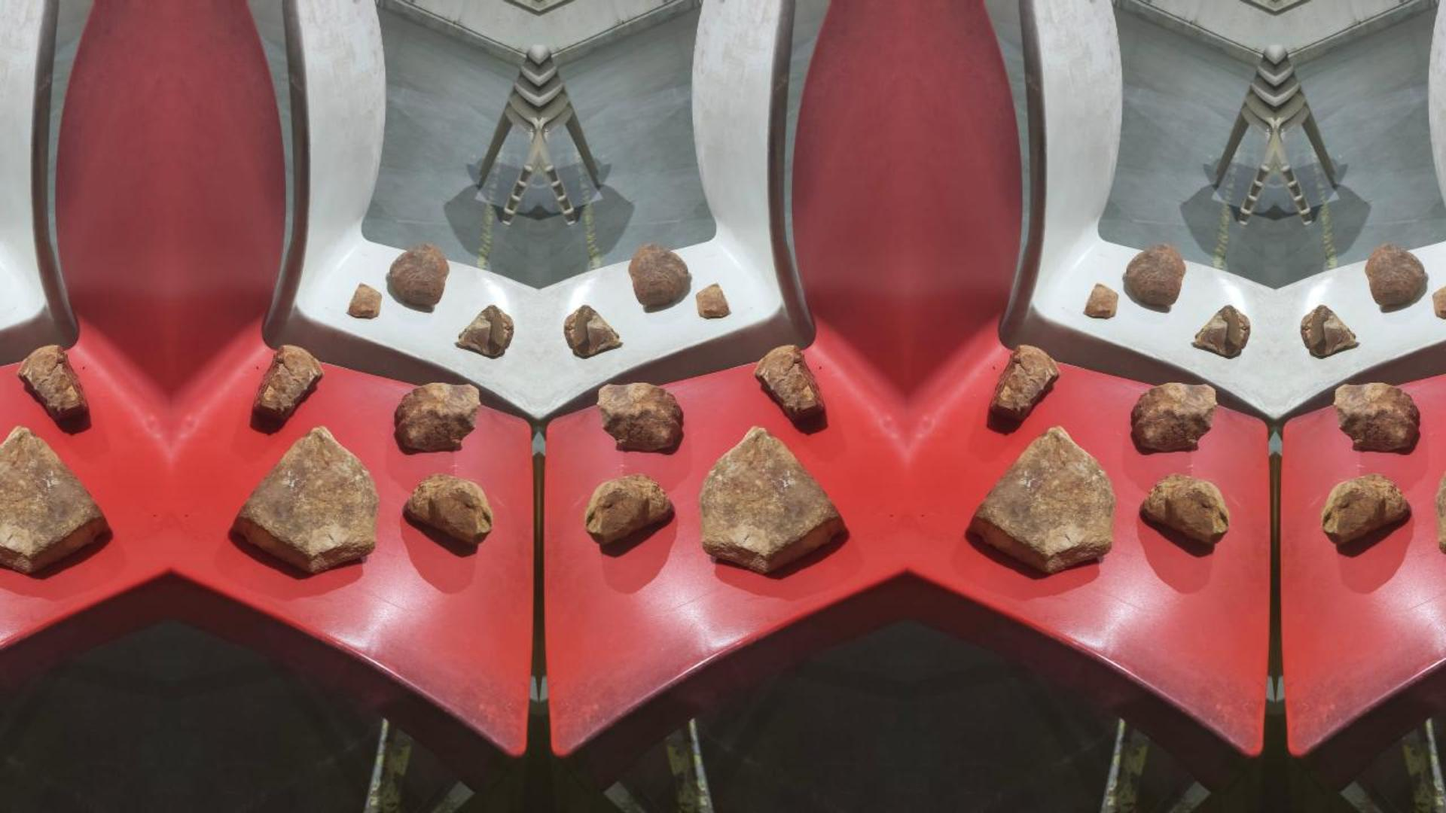rock: (968, 426, 1115, 574), (699, 427, 844, 572), (232, 427, 377, 572), (0, 426, 108, 574), (403, 474, 493, 544), (1140, 474, 1228, 544), (1322, 473, 1409, 543), (584, 474, 672, 543), (251, 344, 322, 427), (394, 383, 479, 452), (1334, 383, 1420, 451), (598, 383, 682, 452), (1131, 383, 1216, 451), (18, 344, 87, 425), (990, 344, 1059, 423), (754, 344, 824, 420), (386, 243, 448, 312), (628, 244, 690, 312), (1123, 244, 1185, 312), (1365, 243, 1426, 311), (563, 305, 621, 357), (455, 305, 513, 357), (1192, 305, 1249, 357), (1300, 305, 1357, 357), (347, 283, 381, 318), (1083, 282, 1117, 317), (696, 283, 729, 317), (1435, 472, 1445, 552), (1431, 286, 1445, 320)
